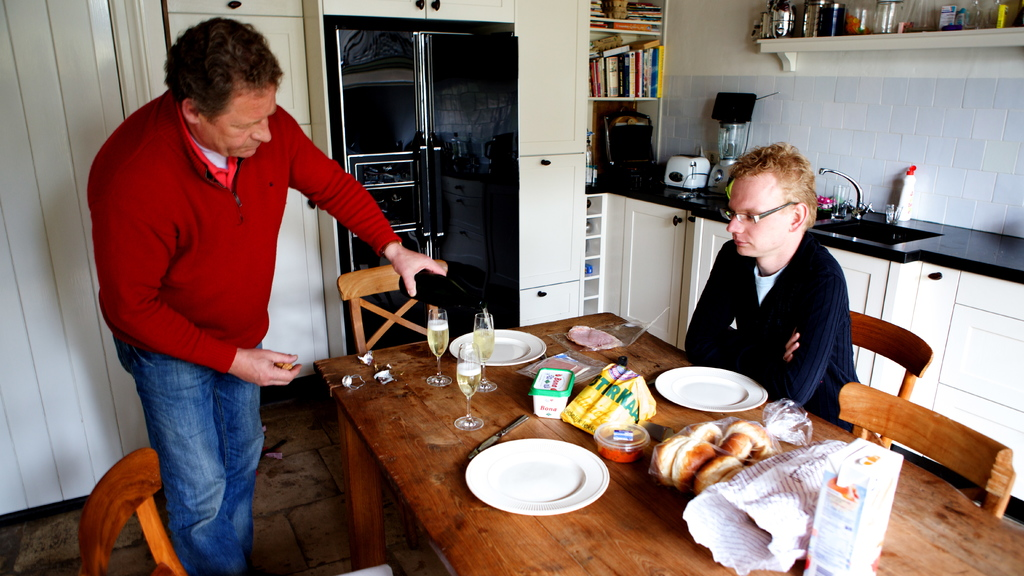plate: (471, 435, 609, 507), (657, 363, 765, 416)
